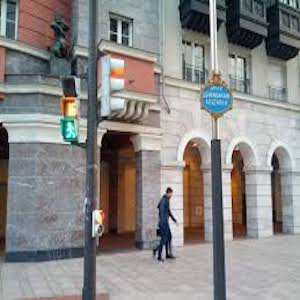green: (62, 120, 79, 142)
